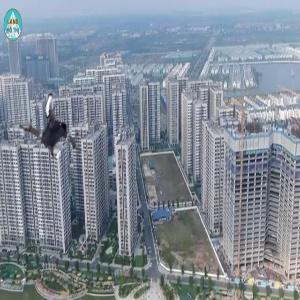drone: (17, 85, 98, 166)
